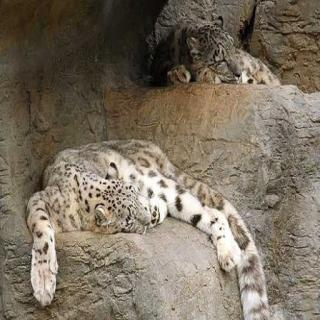Leopard: (14, 147, 251, 317)
